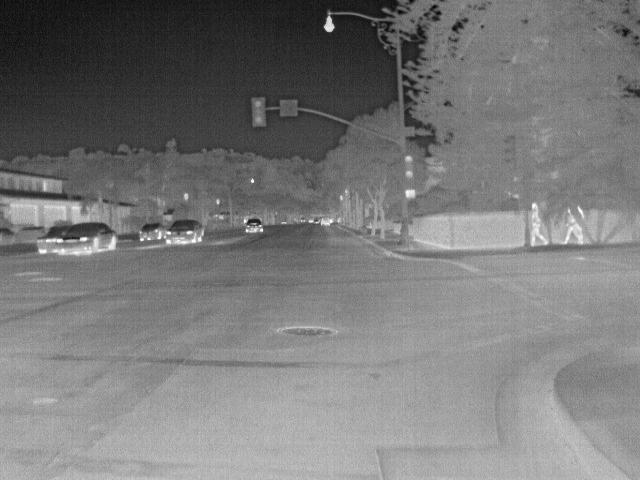car: (61, 220, 117, 258), (35, 225, 72, 255), (165, 220, 202, 248), (139, 221, 167, 243), (243, 218, 263, 234)
person: (527, 200, 548, 246), (560, 210, 582, 245)
